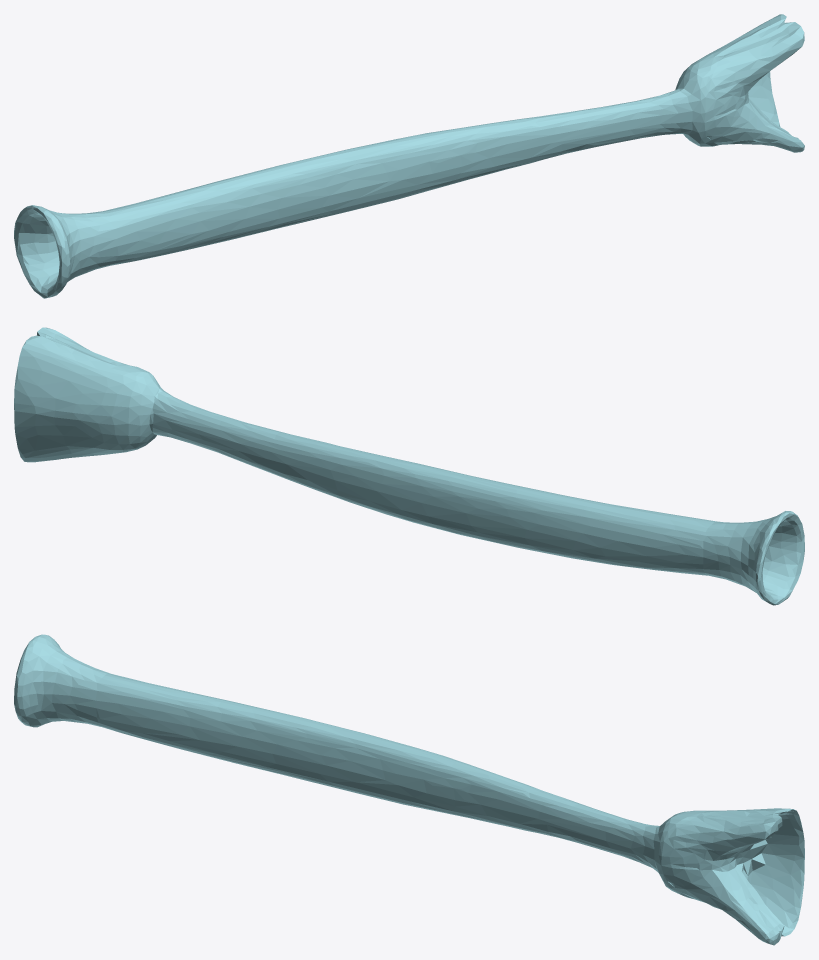
File: green_brush_segment.obj
3 views of the same model, one above another, from view 1: azimuth 30°, elevation 25°; view 2: azimuth 150°, elevation 25°; view 3: azimuth 330°, elevation 25° (orthographic).
Visible parts, largest first — view 1: geometry_0; view 2: geometry_0; view 3: geometry_0.
Part boxes in pixels (x1,y1,x2,y2): geometry_0: [14, 14, 804, 298]; geometry_0: [14, 327, 804, 605]; geometry_0: [14, 634, 804, 945].
Size of the model in its own units: 0.2597 by 0.0415 by 0.0291.
